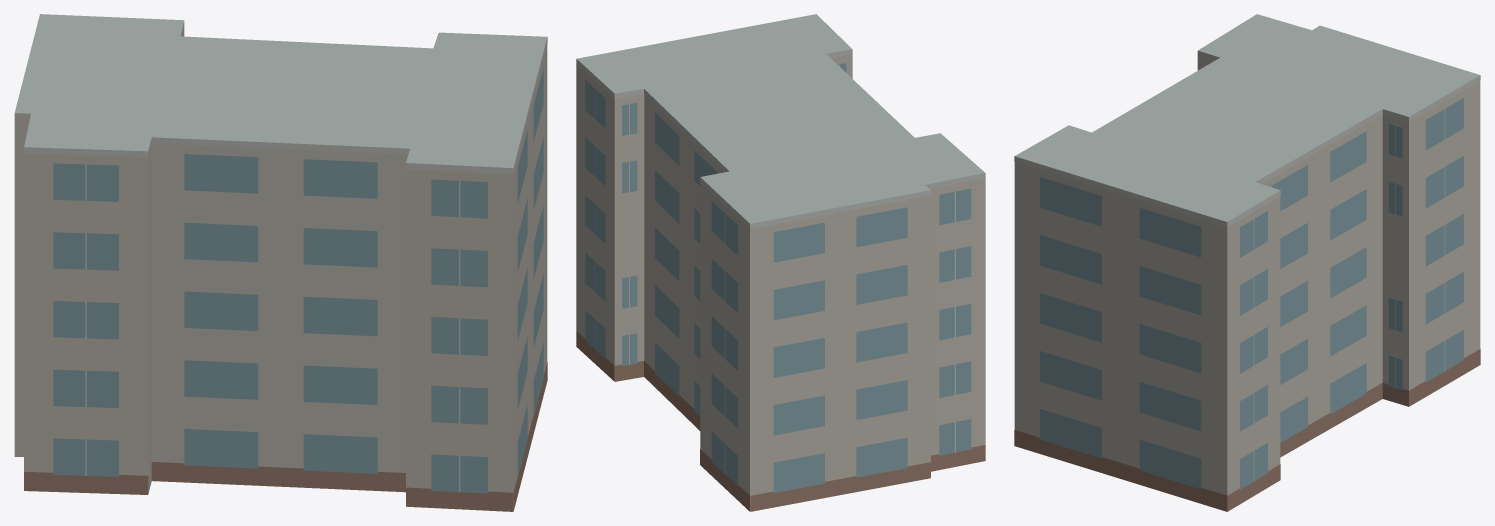
Rendered from survey-upis-32721651.glb.
3 renders of one model, left to right at view 1: azimuth 30°, elevation 25°; view 2: azimuth 150°, elevation 25°; view 3: azimuth 270°, elevation 25°, orthographic. The views are drawn at different scales.
Parts seen in each view (by area): view 1: survey-upis-32721651.tmp; view 2: survey-upis-32721651.tmp; view 3: survey-upis-32721651.tmp.
Part boxes in pixels (x1,y1,x2,y2): survey-upis-32721651.tmp: [14, 14, 547, 511]; survey-upis-32721651.tmp: [576, 14, 985, 511]; survey-upis-32721651.tmp: [1014, 14, 1480, 511].
Size of the model in its own units: 20.49 by 13.3 by 19.39.
